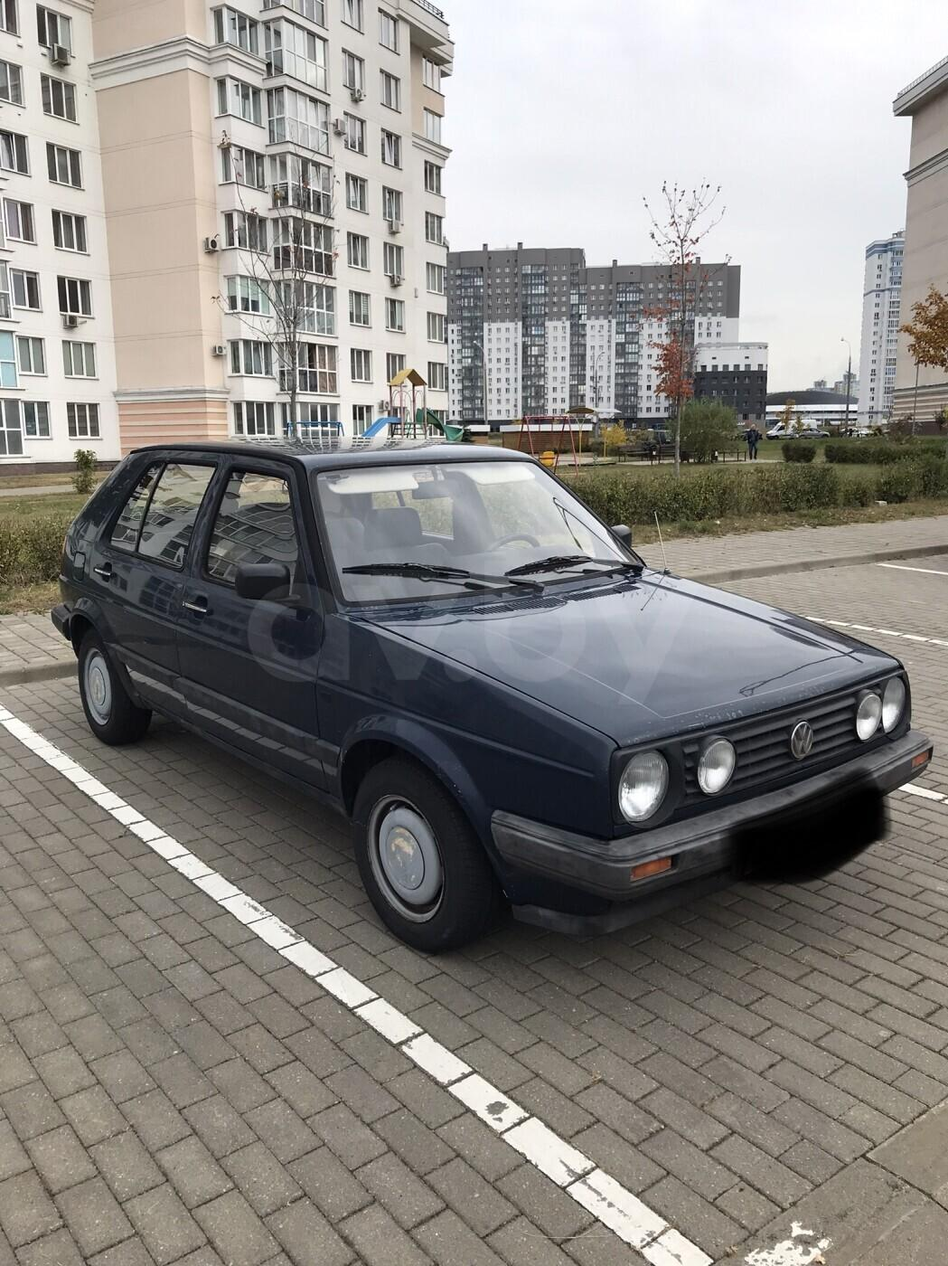Golf_1983-1992: (56, 438, 931, 957)
